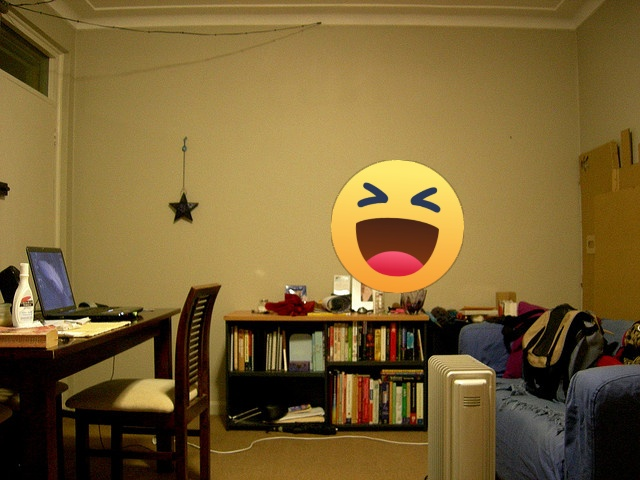haha: (331, 160, 464, 293)
